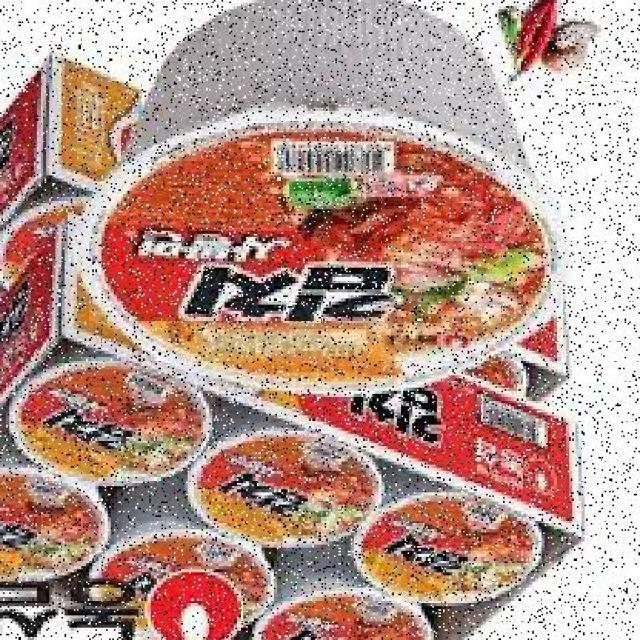Miscellaneous: (69, 8, 557, 384), (181, 404, 382, 558), (3, 339, 202, 492), (86, 486, 268, 640), (370, 468, 550, 614), (237, 544, 424, 640), (0, 468, 108, 590)
